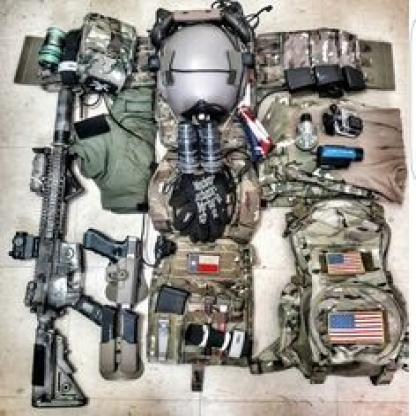Grenade: (35, 22, 66, 80), (200, 120, 224, 172), (176, 121, 200, 172)
Gun: (8, 85, 104, 409)
Pistol: (82, 225, 138, 307)
